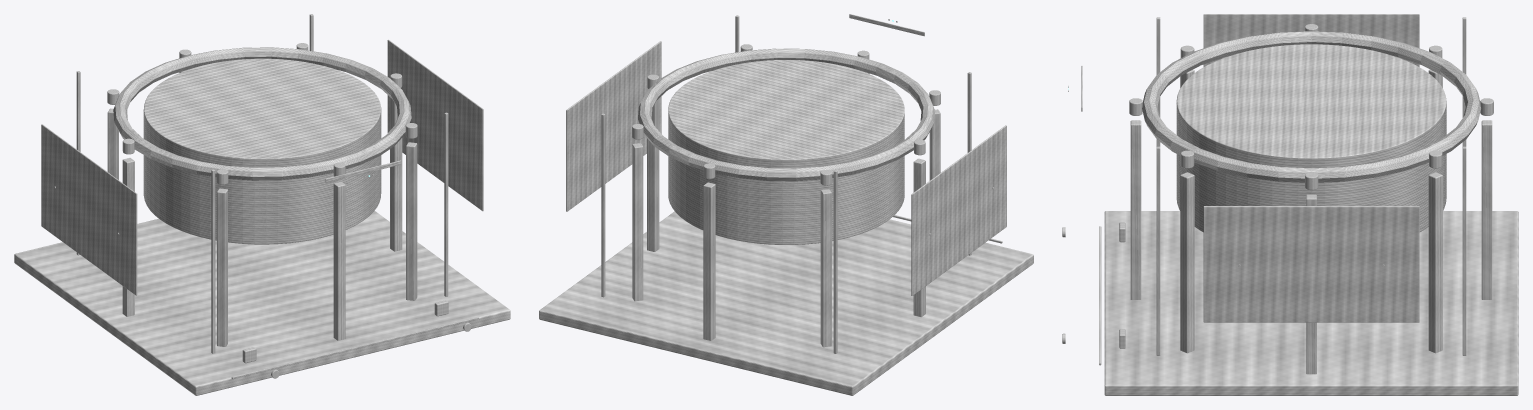
File: particle_accelerator_variant_d.glb
The picture shows the model from 3 angles, left to right: view 1: azimuth 30°, elevation 25°; view 2: azimuth 150°, elevation 25°; view 3: azimuth 270°, elevation 25°; orthographic projection. The views are drawn at different scales.
Parts seen in each view (by area): view 1: Foundation skid.003, Accelerator core, Side access panel.006, Accelerator containment ring, Side access panel.007, Radial support.030, Radial support.031, Radial support.029, Radial support.024, Corner protective upright.013, Corner protective upright.015, Amber safety sill (+2 smaller); view 2: Foundation skid.003, Accelerator core, Side access panel.006, Accelerator containment ring, Side access panel.007, Radial support.026, Radial support.025, Radial support.027, Radial support.024, Corner protective upright.014, Corner protective upright, Radial support.028 (+1 smaller); view 3: Foundation skid.003, Accelerator core, Side access panel.007, Accelerator containment ring, Side access panel.006, Radial support.031, Radial support.025, Radial support.026, Radial support.030, Corner protective upright, Corner protective upright.015, Radial support.024 (+1 smaller).
Part boxes in pixels (x1,y1,x2,y2): Foundation skid.003: [14, 210, 510, 395]; Accelerator core: [143, 58, 381, 244]; Side access panel.006: [41, 124, 137, 295]; Accelerator containment ring: [113, 47, 411, 180]; Side access panel.007: [387, 39, 483, 211]; Radial support.030: [333, 181, 345, 340]; Radial support.031: [406, 142, 417, 300]; Radial support.029: [217, 188, 227, 346]; Radial support.024: [390, 97, 402, 251]; Corner protective upright.013: [211, 169, 215, 353]; Corner protective upright.015: [444, 112, 448, 296]; Amber safety sill: [231, 317, 479, 379]; Foundation skid.003: [539, 211, 1033, 395]; Accelerator core: [668, 60, 904, 244]; Side access panel.006: [911, 125, 1006, 295]; Accelerator containment ring: [638, 48, 934, 181]; Side access panel.007: [566, 41, 661, 211]; Radial support.026: [703, 182, 715, 340]; Radial support.025: [632, 143, 643, 301]; Radial support.027: [820, 189, 831, 347]; Radial support.024: [647, 98, 659, 251]; Corner protective upright.014: [833, 170, 837, 353]; Corner protective upright: [601, 113, 605, 297]; Radial support.028: [913, 158, 925, 317]; Foundation skid.003: [1104, 211, 1518, 395]; Accelerator core: [1176, 44, 1446, 232]; Side access panel.007: [1203, 206, 1419, 322]; Accelerator containment ring: [1142, 31, 1480, 182]; Side access panel.006: [1203, 14, 1419, 66]; Radial support.031: [1180, 172, 1194, 353]; Radial support.025: [1428, 172, 1442, 353]; Radial support.026: [1481, 120, 1492, 299]; Radial support.030: [1130, 120, 1141, 299]; Corner protective upright: [1462, 146, 1466, 355]; Corner protective upright.015: [1156, 146, 1160, 355]; Radial support.024: [1306, 194, 1316, 374].
Size of what is drawn, in the model's own units: 16.44 by 8.88 by 16.22.
7 materials, 7 textured.
